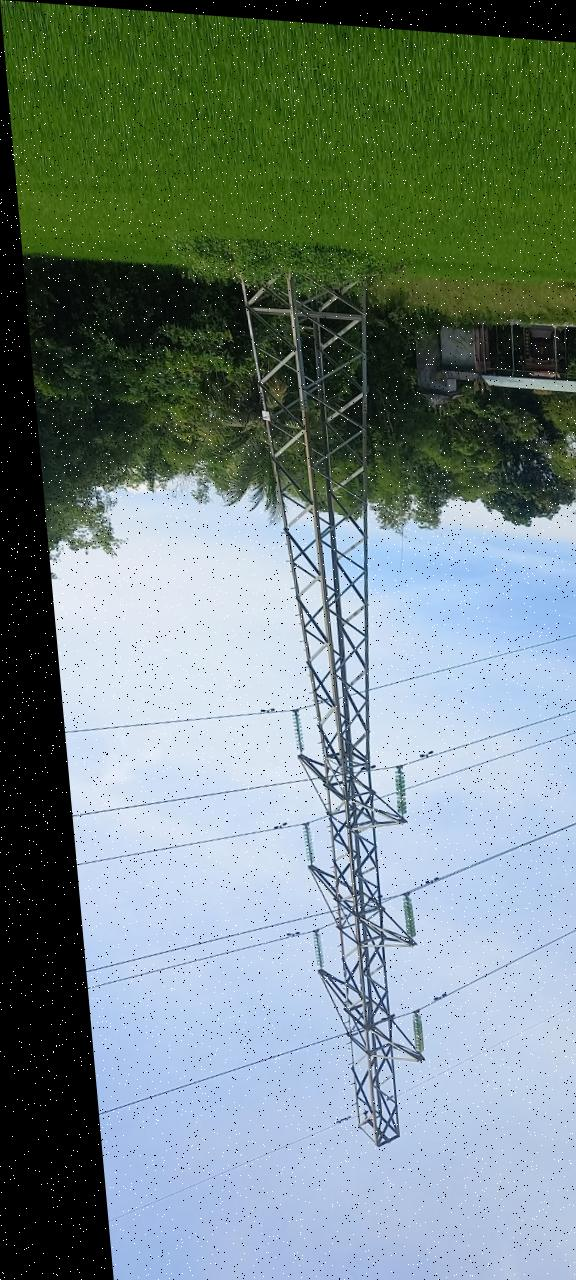tower: (232, 246, 439, 1155)
